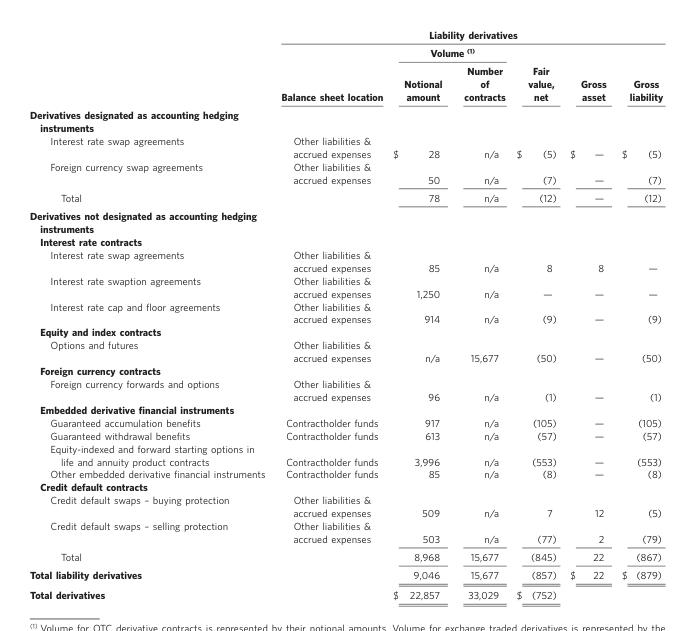table: (28, 28, 662, 600)
table column: (28, 28, 272, 600), (272, 28, 387, 600), (387, 28, 452, 600), (452, 28, 510, 600), (510, 28, 562, 600), (562, 28, 613, 600), (613, 28, 662, 600)
table column header: (28, 28, 662, 105)
table projected row header: (28, 105, 662, 134), (28, 206, 662, 234), (28, 234, 662, 247), (28, 325, 662, 338), (28, 402, 662, 415), (28, 480, 662, 493), (28, 364, 662, 376)
table row: (28, 61, 662, 105), (28, 105, 662, 134), (28, 159, 662, 188), (28, 206, 662, 234), (28, 519, 662, 547), (28, 247, 662, 273), (28, 273, 662, 299), (28, 299, 662, 325), (28, 338, 662, 364), (28, 376, 662, 402), (28, 441, 662, 467), (28, 493, 662, 519), (28, 134, 662, 159), (28, 565, 662, 584), (28, 43, 662, 61), (28, 188, 662, 206), (28, 547, 662, 565), (28, 584, 662, 600), (28, 28, 662, 43), (28, 234, 662, 247), (28, 325, 662, 338), (28, 402, 662, 415), (28, 415, 662, 428), (28, 428, 662, 441), (28, 467, 662, 480), (28, 480, 662, 493), (28, 364, 662, 376)
table spanning cell: (272, 43, 387, 105), (272, 28, 662, 43), (510, 43, 562, 105), (562, 43, 613, 105), (613, 43, 662, 105), (387, 43, 510, 61)
